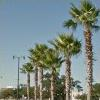Tree: (22, 6, 100, 84)
